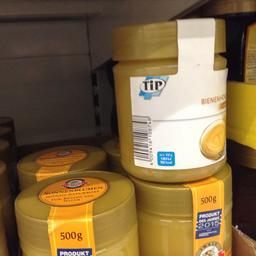honey: (108, 16, 230, 178), (10, 170, 135, 255), (129, 172, 233, 254)
